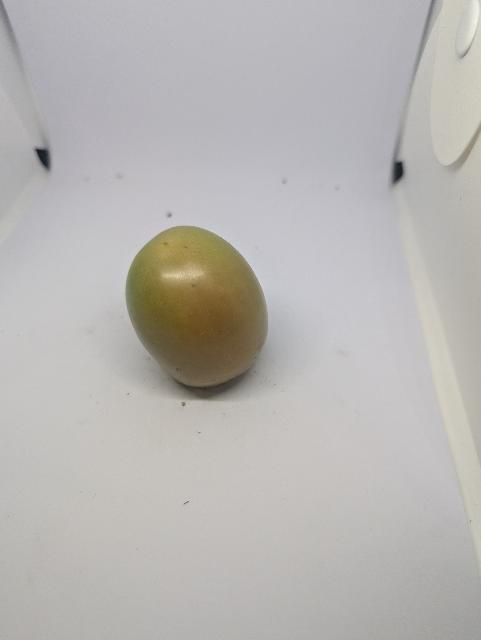breaker: (120, 221, 275, 392)
